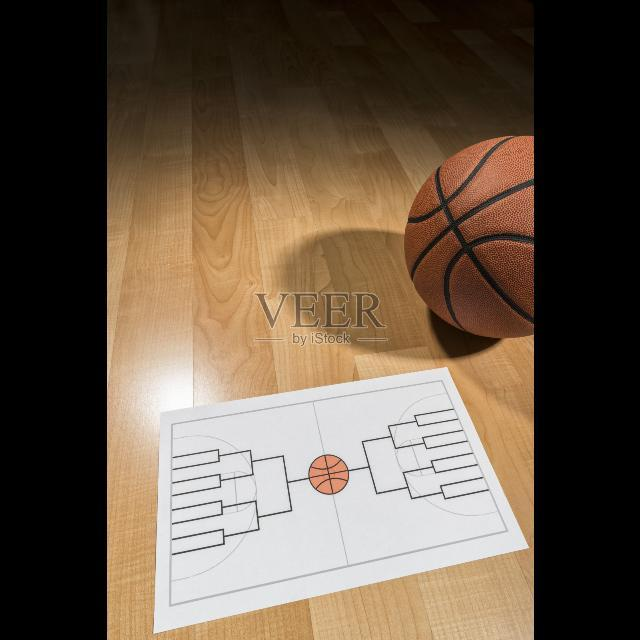basketball: (406, 136, 532, 337)
